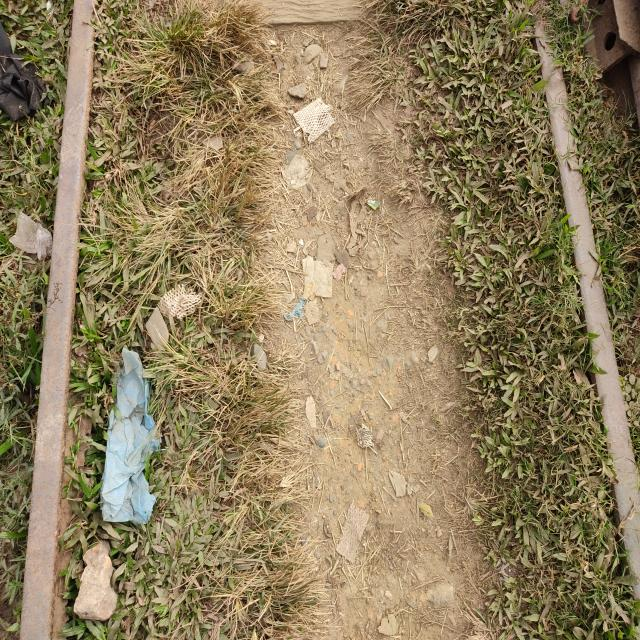non-defective: (31, 109, 268, 438)
